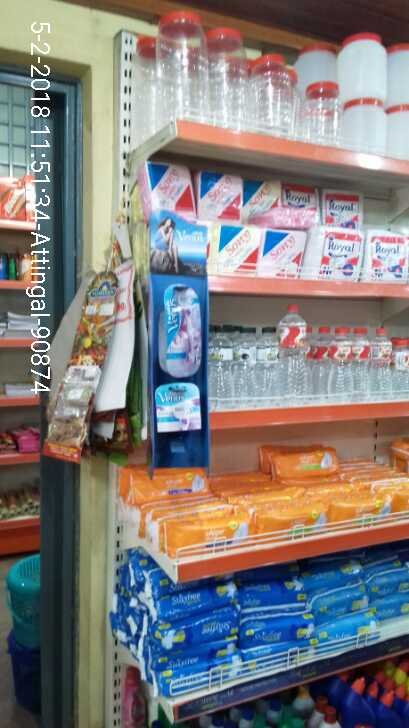venus: (147, 276, 213, 381), (146, 380, 205, 433)
